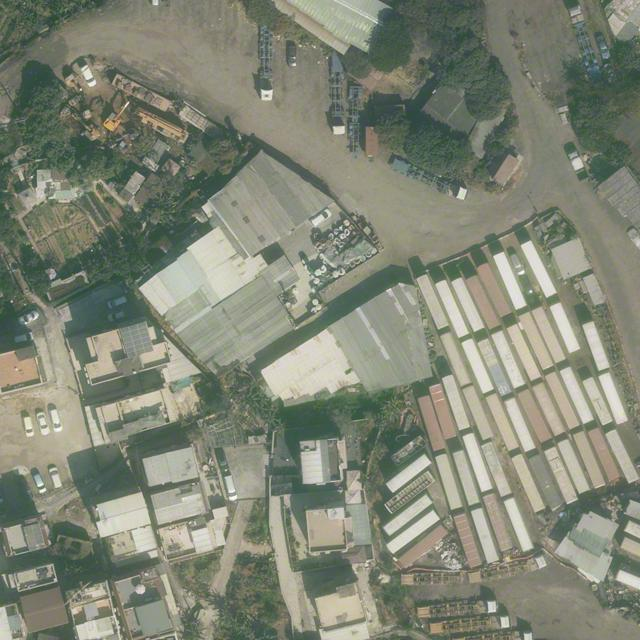panel: (120, 322, 152, 358)
